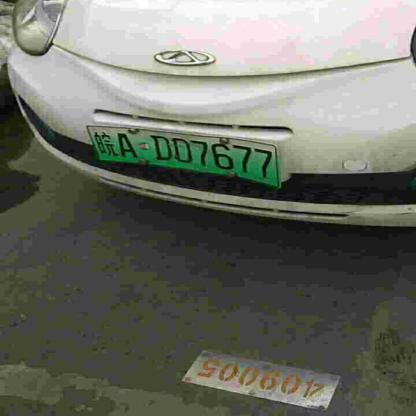lp: (86, 126, 279, 186)
